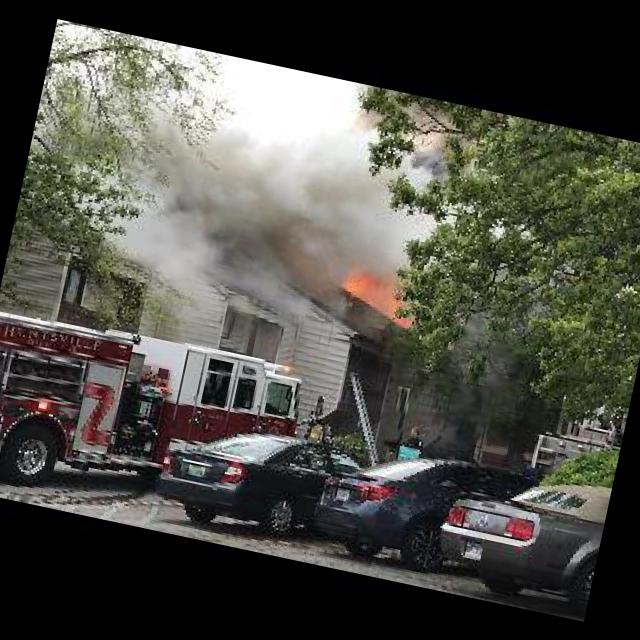Fire: (334, 262, 425, 330)
Smoke: (114, 90, 414, 331)
